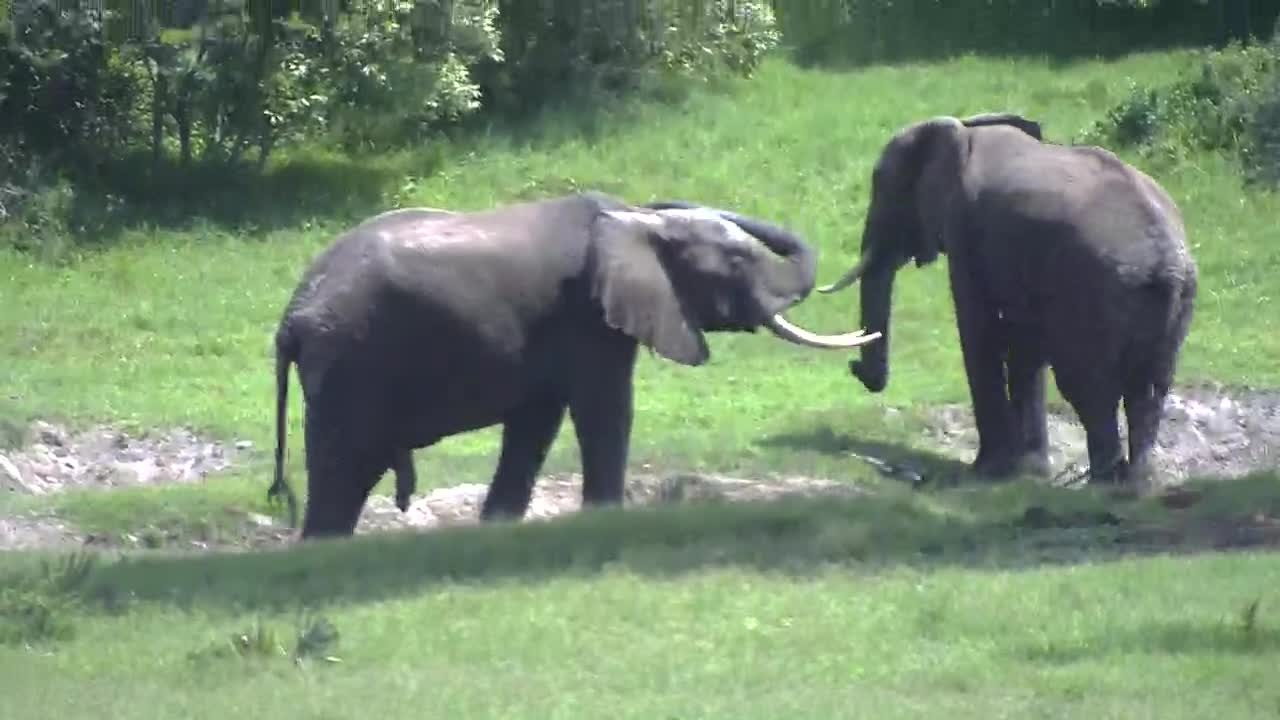elephant: (578, 370, 1190, 720), (1009, 306, 1280, 705)
